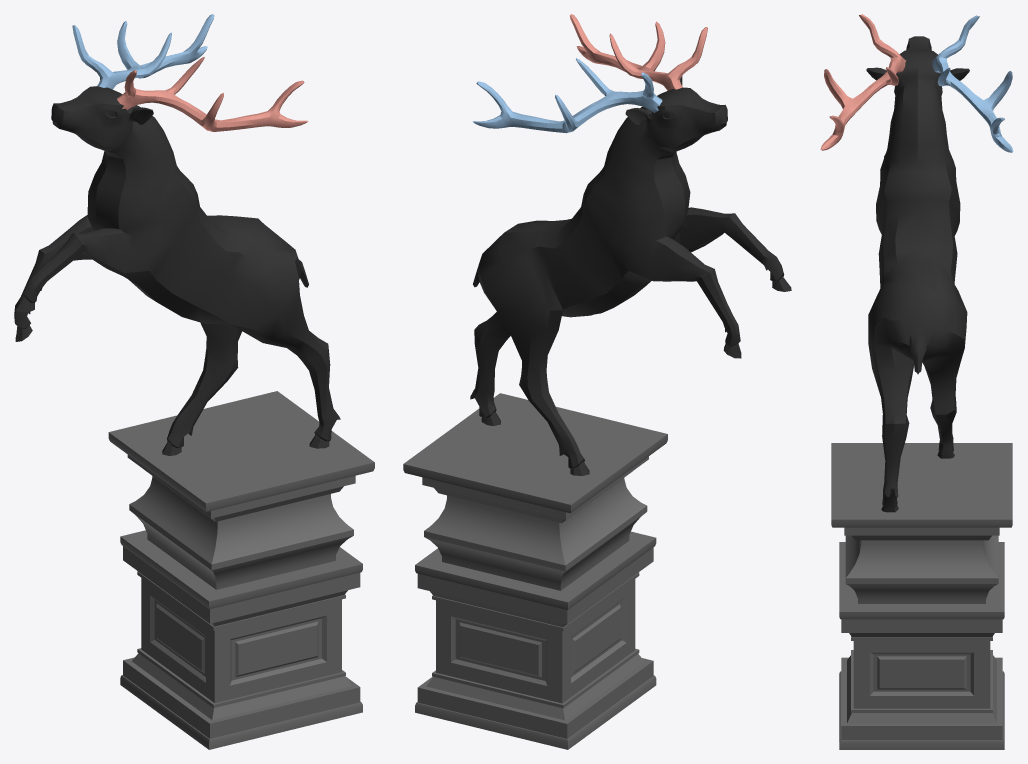
Rendered from Statue_Stag.glb.
3 renders of one model, left to right at view 1: azimuth 30°, elevation 25°; view 2: azimuth 150°, elevation 25°; view 3: azimuth 270°, elevation 25°, orthographic. The views are drawn at different scales.
Visible parts, largest first — view 1: Pedestal, Statue; view 2: Pedestal, Statue; view 3: Pedestal, Statue.
Part boxes in pixels (bbox=[...]): Pedestal: bbox=[108, 391, 374, 749]; Statue: bbox=[14, 14, 340, 455]; Pedestal: bbox=[403, 393, 667, 749]; Statue: bbox=[470, 14, 791, 475]; Pedestal: bbox=[831, 443, 1012, 749]; Statue: bbox=[820, 14, 1013, 512].
Bounding box in the file's own units: 2.31 × 4.63 × 1.27.
